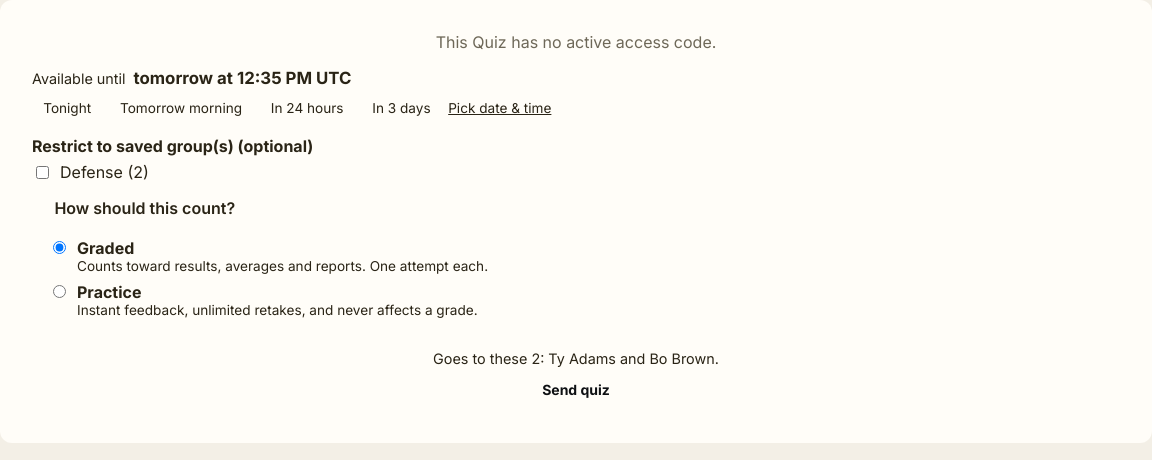
Test case: Send says who gets it › a saved group picked on its own says it replaces the list
Check: the text "Goes to these 2: Ty Adams and Bo Brown." is shown, box [433,350,719,367]
Click the checkbox labelled "Defense (2)": point(42, 172) [36,166,49,179]
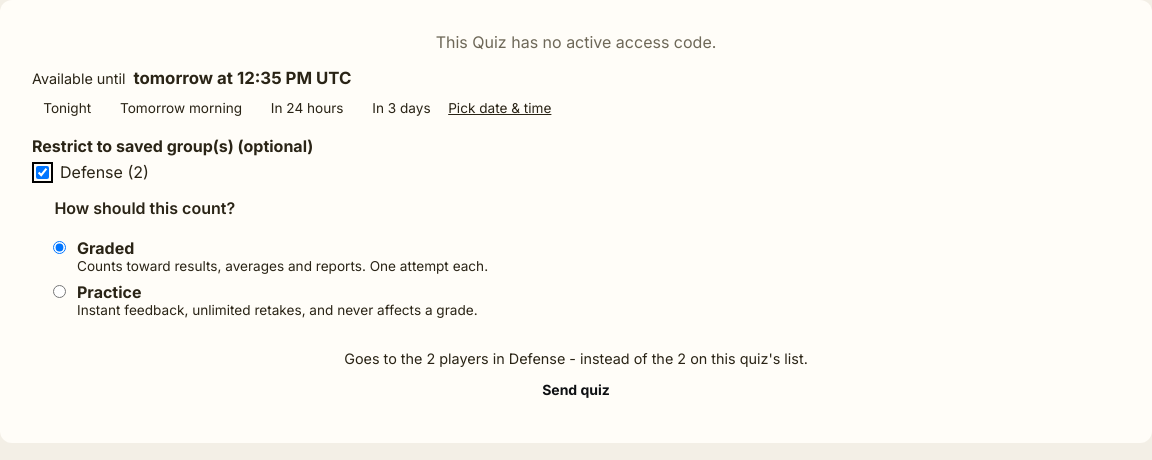
Check: the text "Goes to the 2 players in Defense - instead of the 2 on this quiz's list." is shown, box [344,350,808,367]
